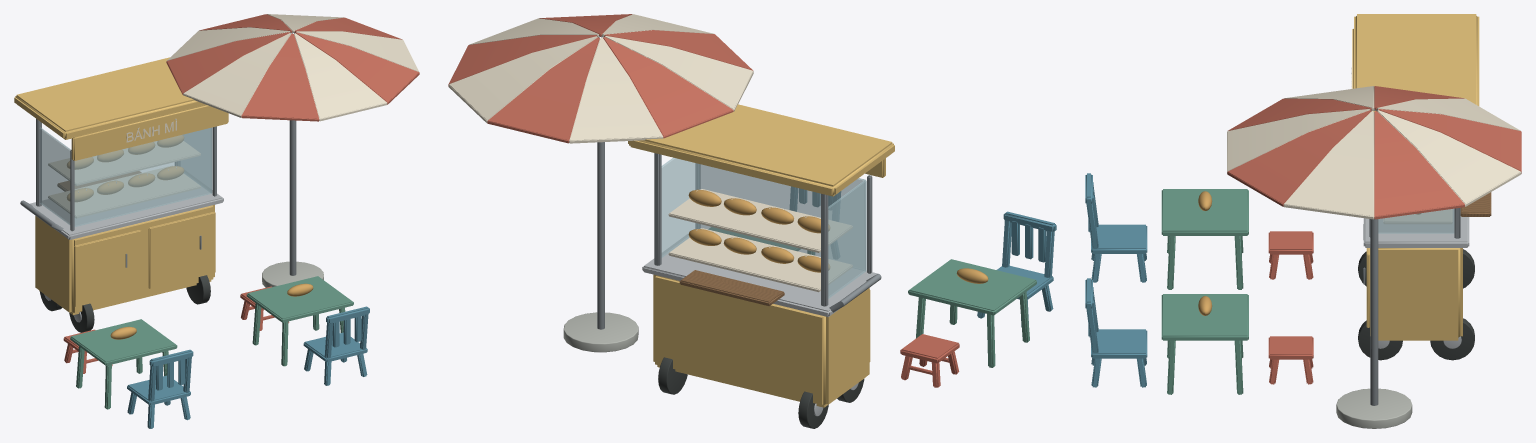
File: BanhMiSpace.glb
The picture shows the model from 3 angles, left to right: view 1: azimuth 30°, elevation 25°; view 2: azimuth 150°, elevation 25°; view 3: azimuth 270°, elevation 25°; orthographic projection. The views are drawn at different scales.
Visible parts, largest first — view 1: ST_BanhMiCart_ST_yellow.001, ST_BanhMiCart_PBK_Indochine_glass.001, ST_StreetUmbrella_ST_red.001, ST_StreetUmbrella_ST_cream.001, ST_BanhMiCart_ST_cream.001, ST_BanhMiCart_ST_steel.001, ST_PlasticTableLow_ST_plastic_green.001, ST_PlasticTableLow_ST_plastic_green.002, ST_PlasticChairLow_ST_plastic_blue.002, ST_PlasticChairLow_ST_plastic_blue.001, ST_BanhMiCart_ST_bread.001, ST_BanhMiCart_PBK_Indochine_metal.001 (+6 smaller); view 2: ST_BanhMiCart_ST_yellow.001, ST_StreetUmbrella_ST_cream.001, ST_StreetUmbrella_ST_red.001, ST_BanhMiCart_PBK_Indochine_glass.001, ST_BanhMiCart_ST_cream.001, ST_PlasticTableLow_ST_plastic_green.001, ST_BanhMiCart_ST_steel.001, ST_BanhMiCart_ST_bread.001, ST_BanhMiCart_PBK_Indochine_metal.001, ST_PlasticChairLow_ST_plastic_blue.001, ST_Umbrella_Base.001, ST_PlasticStoolLow_ST_plastic_red.001 (+3 smaller); view 3: ST_BanhMiCart_ST_yellow.001, ST_StreetUmbrella_ST_cream.001, ST_StreetUmbrella_ST_red.001, ST_PlasticTableLow_ST_plastic_green.001, ST_PlasticTableLow_ST_plastic_green.002, ST_BanhMiCart_ST_steel.001, ST_PlasticChairLow_ST_plastic_blue.002, ST_PlasticChairLow_ST_plastic_blue.001, ST_Umbrella_Base.001, ST_BanhMiCart_ST_black.001, ST_StreetUmbrella_PBK_Indochine_metal.001, ST_BanhMiCart_PBK_Indochine_glass.001 (+5 smaller).
Part boxes in pixels (box(x1,y1,x2,y2)): ST_BanhMiCart_ST_yellow.001: box(14, 57, 228, 315); ST_BanhMiCart_PBK_Indochine_glass.001: box(40, 127, 212, 226); ST_StreetUmbrella_ST_red.001: box(166, 14, 419, 121); ST_StreetUmbrella_ST_cream.001: box(166, 14, 419, 121); ST_BanhMiCart_ST_cream.001: box(48, 119, 200, 218); ST_BanhMiCart_ST_steel.001: box(29, 186, 223, 322); ST_PlasticTableLow_ST_plastic_green.001: box(70, 319, 177, 409); ST_PlasticTableLow_ST_plastic_green.002: box(246, 276, 353, 366); ST_PlasticChairLow_ST_plastic_blue.002: box(303, 306, 369, 385); ST_PlasticChairLow_ST_plastic_blue.001: box(127, 349, 193, 428); ST_BanhMiCart_ST_bread.001: box(67, 135, 183, 201); ST_BanhMiCart_PBK_Indochine_metal.001: box(20, 119, 216, 267); ST_BanhMiCart_ST_yellow.001: box(628, 104, 894, 407); ST_StreetUmbrella_ST_cream.001: box(448, 14, 753, 143); ST_StreetUmbrella_ST_red.001: box(448, 14, 753, 143); ST_BanhMiCart_PBK_Indochine_glass.001: box(661, 157, 866, 298); ST_BanhMiCart_ST_cream.001: box(668, 189, 852, 292); ST_PlasticTableLow_ST_plastic_green.001: box(908, 259, 1036, 367); ST_BanhMiCart_ST_steel.001: box(642, 229, 878, 416); ST_BanhMiCart_ST_bread.001: box(688, 189, 829, 272); ST_BanhMiCart_PBK_Indochine_metal.001: box(654, 153, 881, 312); ST_PlasticChairLow_ST_plastic_blue.001: box(977, 211, 1056, 326); ST_Umbrella_Base.001: box(563, 312, 638, 352); ST_PlasticStoolLow_ST_plastic_red.001: box(900, 334, 959, 387); ST_BanhMiCart_ST_yellow.001: box(1352, 14, 1479, 340); ST_StreetUmbrella_ST_cream.001: box(1227, 86, 1521, 219); ST_StreetUmbrella_ST_red.001: box(1227, 86, 1521, 219); ST_PlasticTableLow_ST_plastic_green.001: box(1161, 189, 1248, 289); ST_PlasticTableLow_ST_plastic_green.002: box(1161, 294, 1248, 394); ST_BanhMiCart_ST_steel.001: box(1363, 209, 1469, 348); ST_PlasticChairLow_ST_plastic_blue.002: box(1085, 278, 1147, 387); ST_PlasticChairLow_ST_plastic_blue.001: box(1085, 173, 1147, 282); ST_Umbrella_Base.001: box(1336, 388, 1412, 428); ST_BanhMiCart_ST_black.001: box(1358, 249, 1474, 360); ST_StreetUmbrella_PBK_Indochine_metal.001: box(1370, 109, 1378, 405); ST_BanhMiCart_PBK_Indochine_glass.001: box(1378, 208, 1454, 233).
Bounding box in the file's own units: 3.84 × 2.38 × 3.1.
13 materials, 1 textured.
